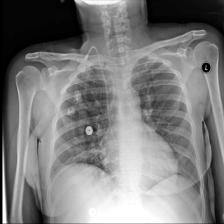normal: (45, 54, 204, 194)
